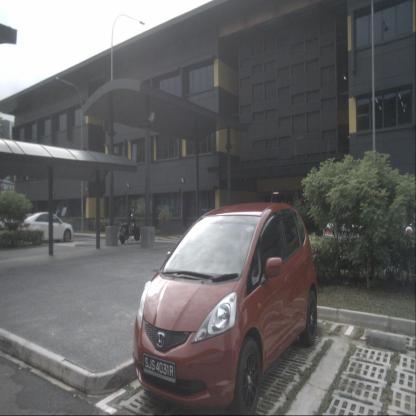vehicle-car: (132, 200, 317, 416), (18, 212, 74, 245)
vehicle-motorcycle: (118, 208, 140, 245)
